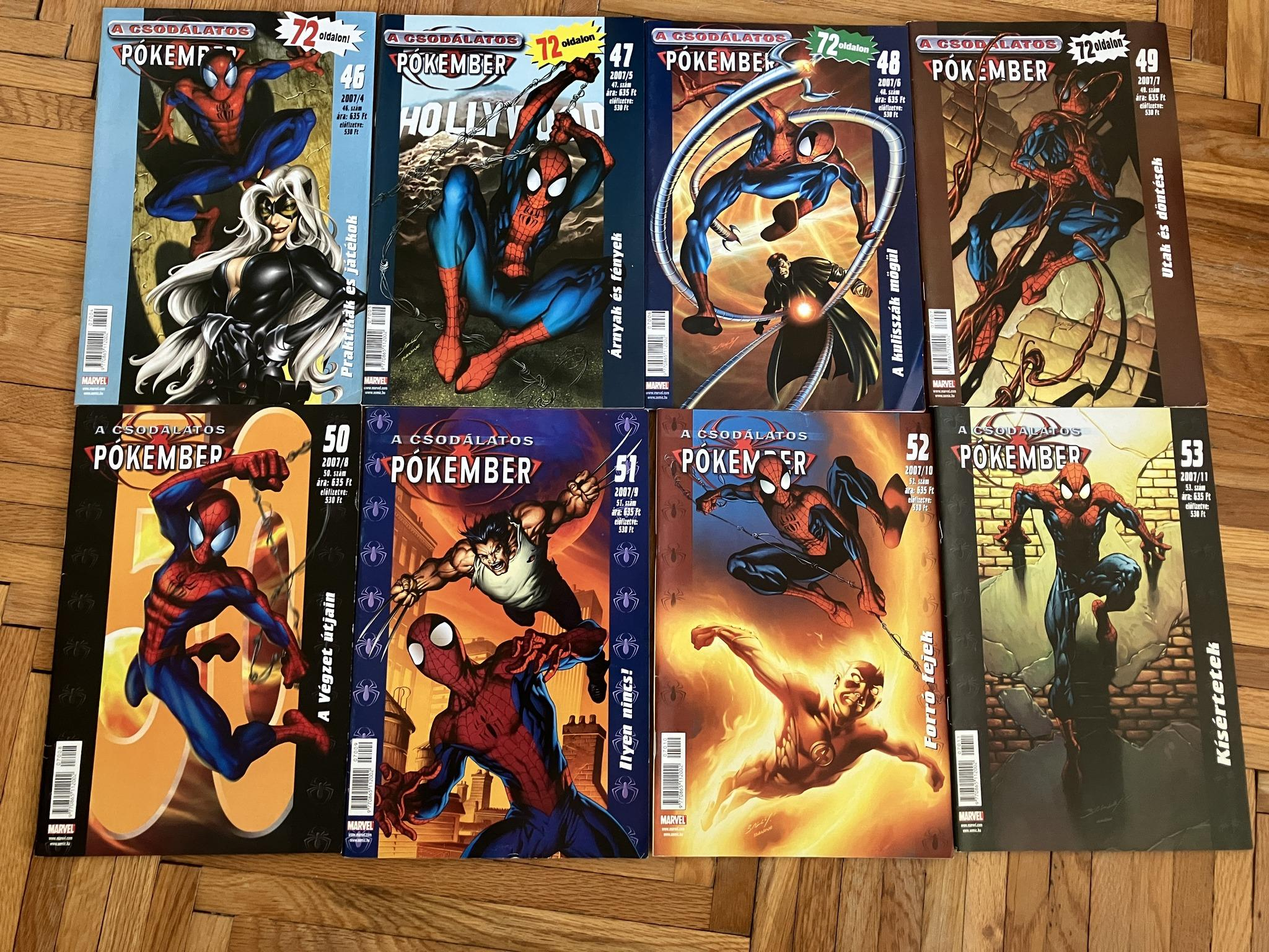comic: (35, 392, 364, 870), (933, 392, 1251, 864), (344, 407, 654, 858), (654, 410, 953, 856), (908, 8, 1205, 421), (77, 6, 376, 409), (364, 14, 645, 407), (644, 22, 924, 409)
